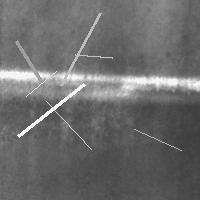scratches: (1, 67, 199, 96), (13, 79, 89, 141), (56, 8, 105, 90), (41, 96, 96, 154), (129, 124, 186, 155), (11, 36, 46, 86), (21, 66, 61, 101), (70, 49, 117, 62)
